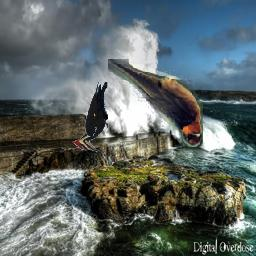Swallow: (109, 59, 204, 149)
Woodpecker: (72, 82, 109, 152)
